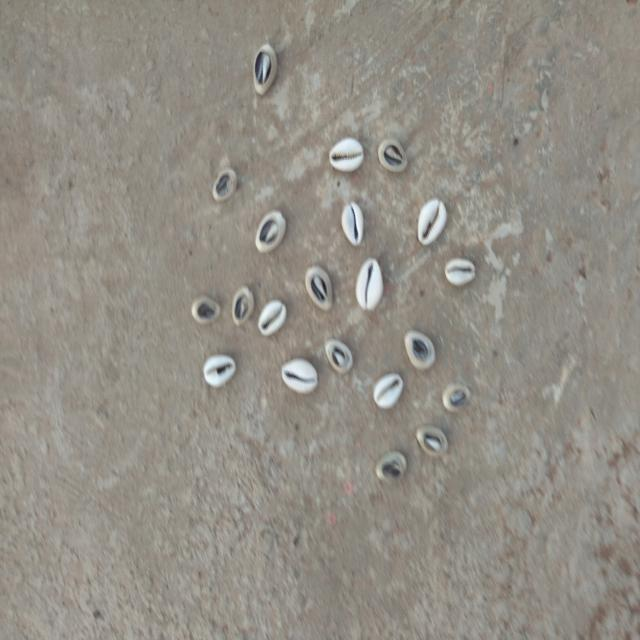facedown: (247, 42, 281, 98), (400, 325, 439, 372), (303, 263, 336, 315), (253, 209, 288, 256), (375, 136, 411, 176), (414, 422, 449, 462), (374, 446, 407, 486), (440, 378, 471, 420), (322, 337, 355, 376), (208, 167, 240, 207), (229, 284, 255, 329), (190, 294, 220, 329)
faceup: (353, 257, 386, 314), (280, 353, 320, 398), (327, 134, 366, 176), (417, 196, 449, 247), (337, 198, 368, 249), (258, 290, 288, 341), (200, 351, 239, 389), (372, 369, 404, 414), (442, 256, 481, 290)
